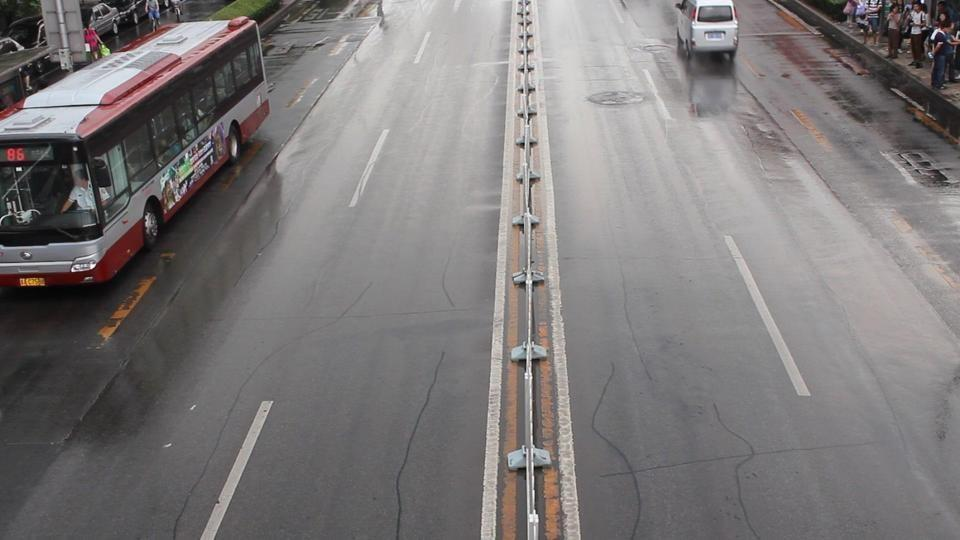car: (673, 0, 740, 59), (0, 16, 47, 53)
